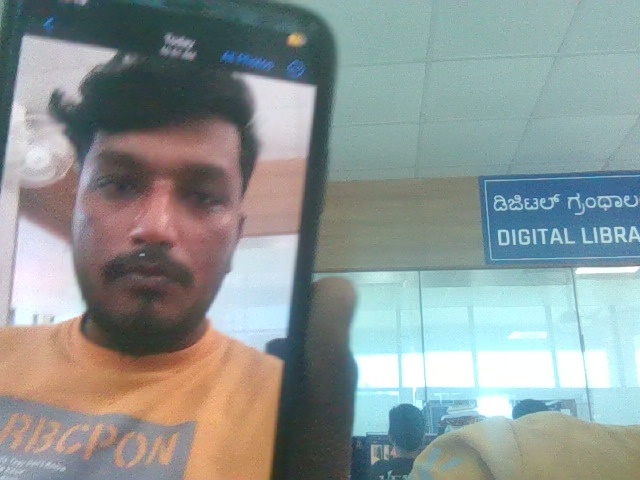fake: (43, 29, 272, 353)
